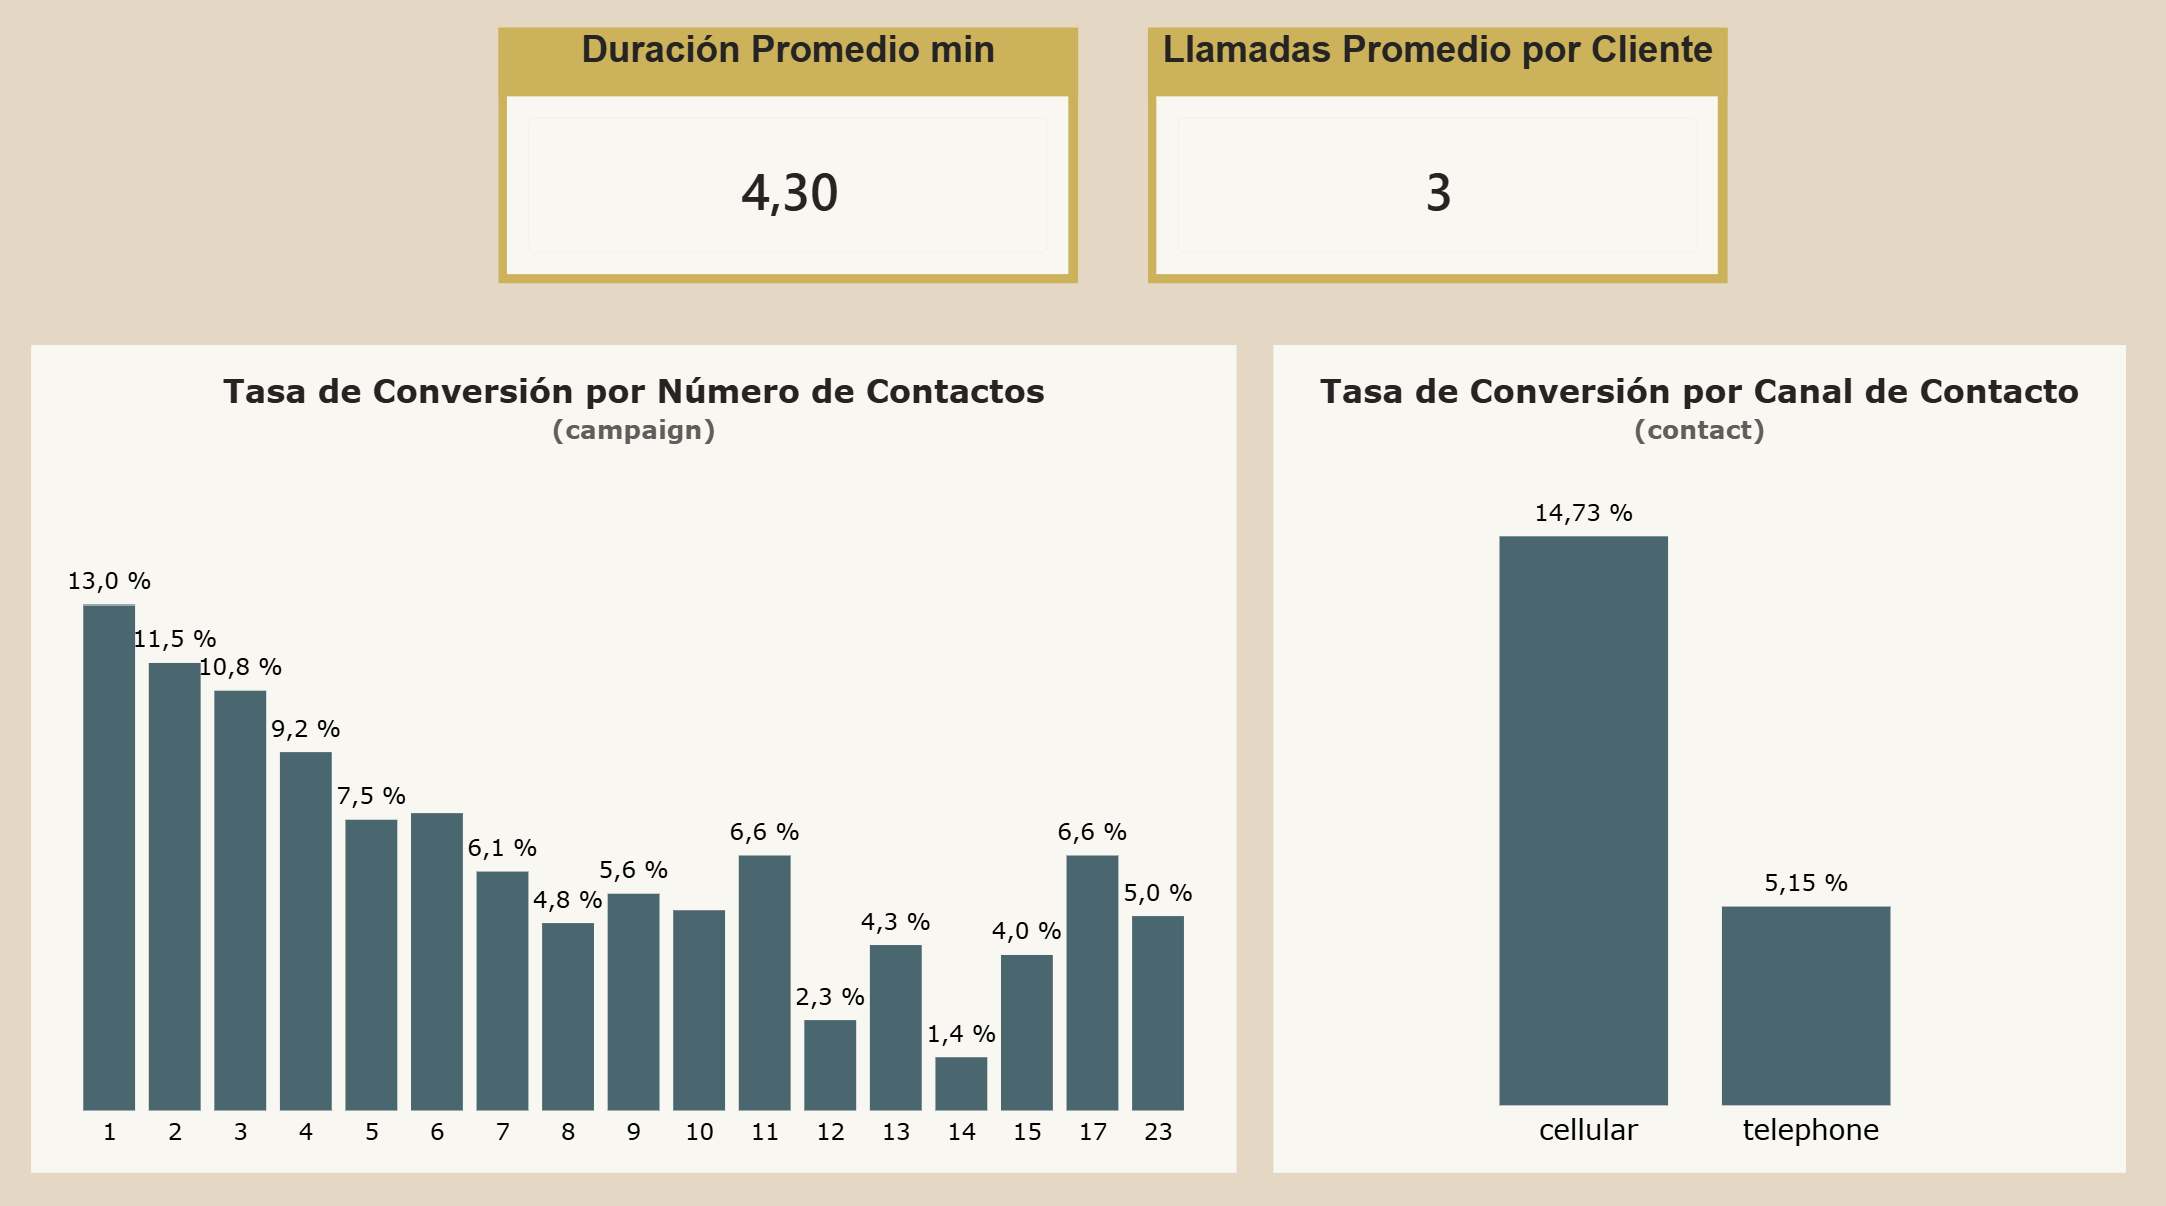

The page's visual inventory and layout, read from the dashboard file:
{"tool":"powerbi","page":{"name":"Eficiencia Operativa y Campaña","canvas":[1280,720],"ordinal":2},"visuals":[{"type":"cardVisual","title":"Duración Promedio min","fields":{"Data":["_Medidas.Duracion Promedio Min"]},"box":[303.3,26.7,336.7,148.3],"z":0},{"type":"cardVisual","title":"Llamadas Promedio por Cliente","fields":{"Data":["_Medidas.Llamadas Promedio por Cliente"]},"box":[680,26.7,336.7,148.3],"z":1000},{"type":"clusteredColumnChart","title":"Tasa de Conversión por Número de Contactos","fields":{"Category":["bank_marketing_cleaned.campaign"],"Y":["_Medidas.Tasa Conversion %"]},"box":[31.7,211.7,700,480],"z":2000},{"type":"clusteredColumnChart","title":"Tasa de Conversión por Canal de Contacto","fields":{"Category":["bank_marketing_cleaned.contact"],"Y":["_Medidas.Tasa Conversion %"]},"box":[753.3,211.7,495,480],"z":3000}]}

Visuals, with their boxes in screenshot pixels (x1, y1, x2, y2), scaled from the page's 1280x720 canvas onto the 2166x1206 screenshot:
"Duración Promedio min" cardVisual: (left=513, top=45, right=1083, bottom=293)
"Llamadas Promedio por Cliente" cardVisual: (left=1151, top=45, right=1720, bottom=293)
"Tasa de Conversión por Número de Contactos" clusteredColumnChart: (left=54, top=355, right=1238, bottom=1159)
"Tasa de Conversión por Canal de Contacto" clusteredColumnChart: (left=1275, top=355, right=2112, bottom=1159)
